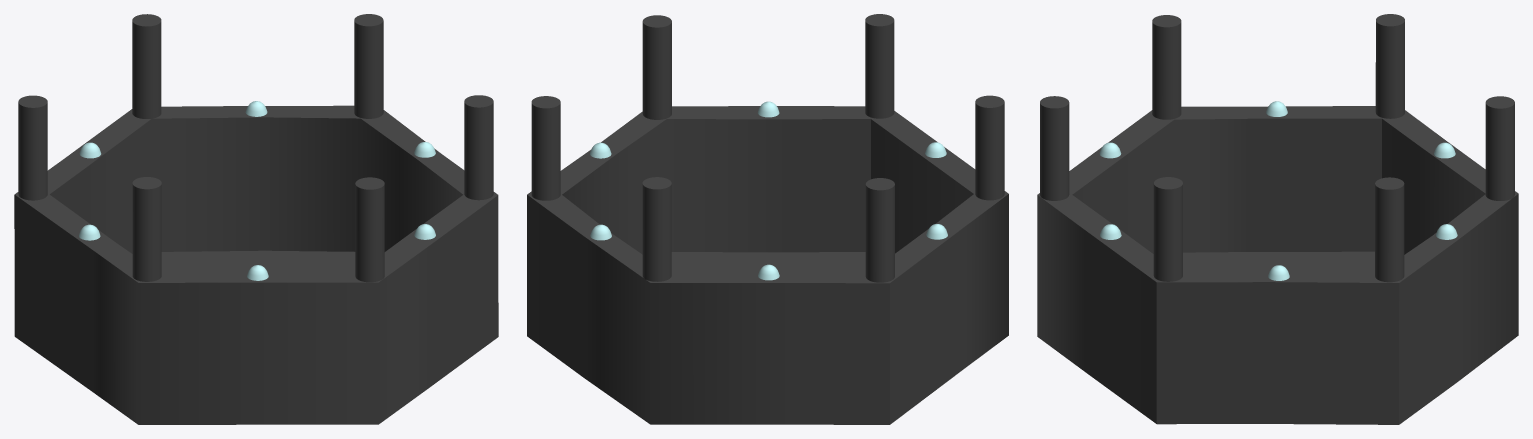
Rendered from Base_Cabeza.fbx.
3 renders of one model, left to right at view 1: azimuth 30°, elevation 25°; view 2: azimuth 150°, elevation 25°; view 3: azimuth 270°, elevation 25°, orthographic.
Parts seen in each view (by area): view 1: Base_Cabeza; view 2: Base_Cabeza; view 3: Base_Cabeza.
Part boxes in pixels (x1,y1,x2,y2): Base_Cabeza: (14, 14, 498, 424); Base_Cabeza: (527, 14, 1008, 424); Base_Cabeza: (1037, 14, 1518, 424).
Size of the model in its own units: 85.27 by 52.58 by 97.84.
